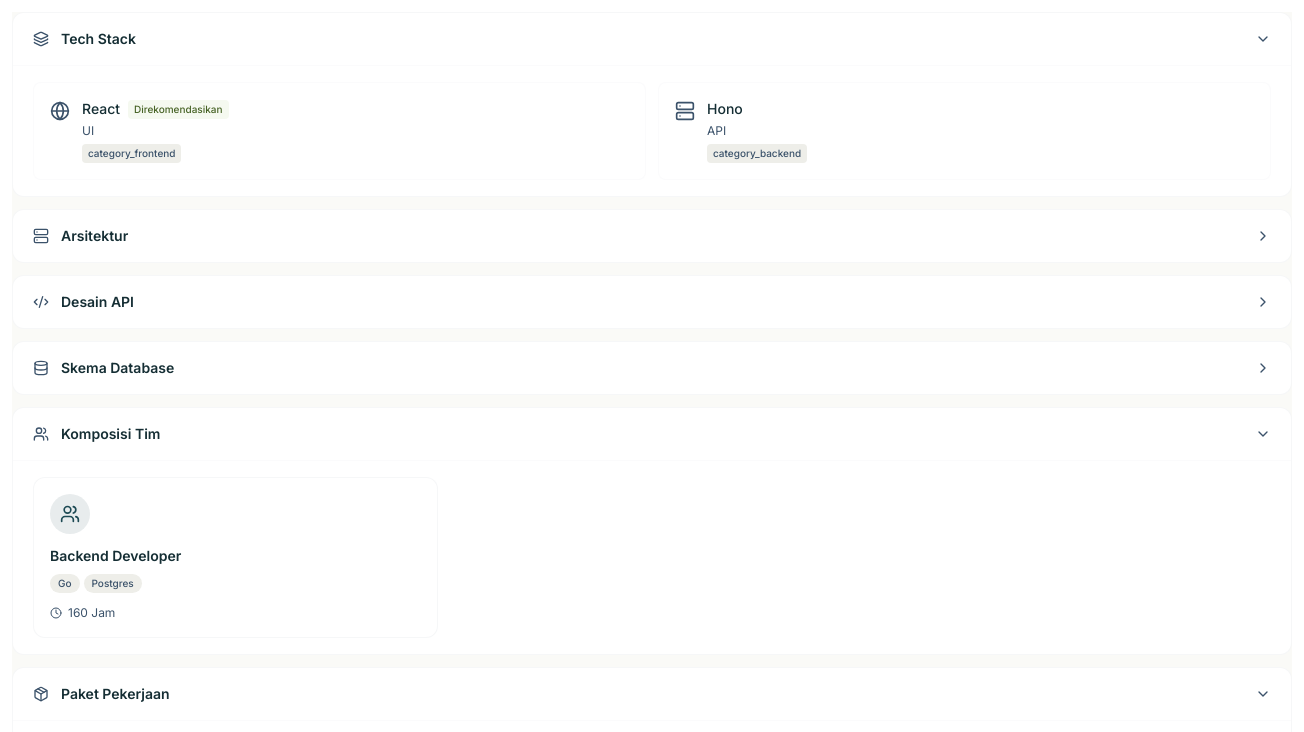
PrdDocumentBody › the buyer view › says nothing about a lock once the document is paid for
Click the button "Desain API": {"x": 97, "y": 302} [13,276,1291,328]
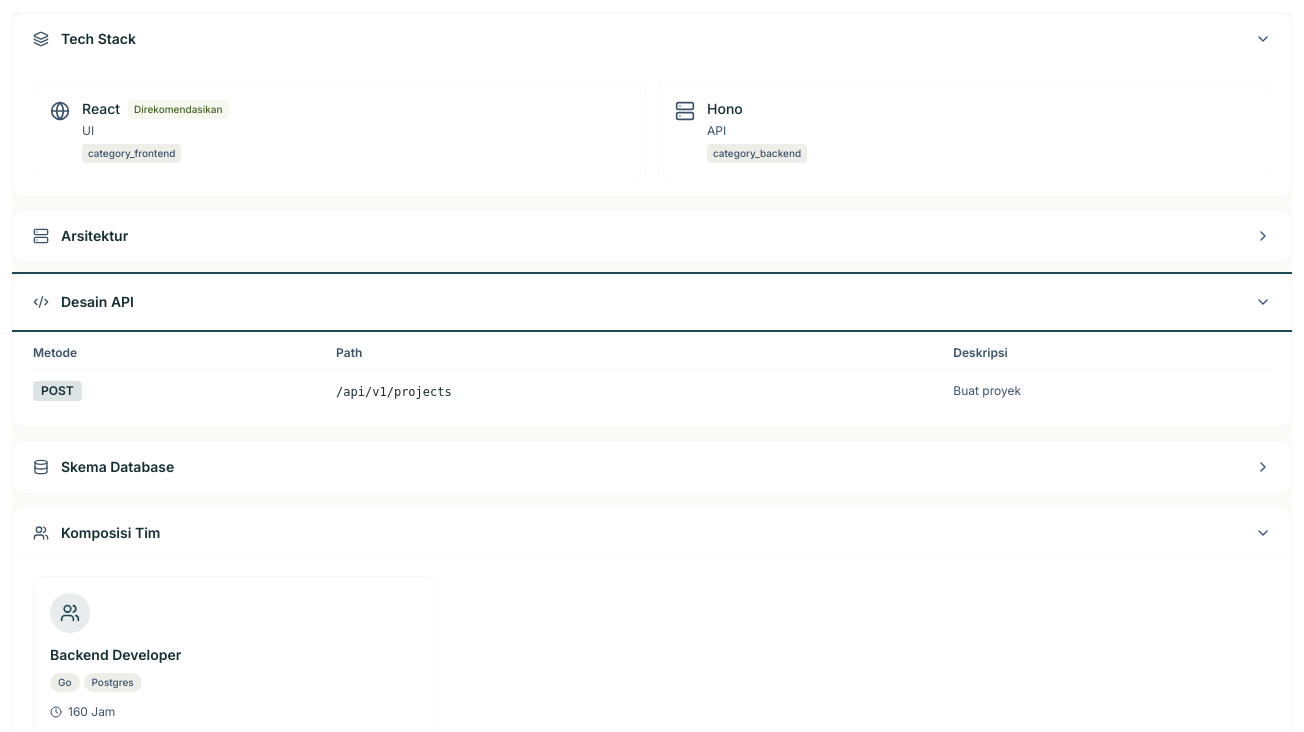
Expected: the text "/api/v1/projects" is shown, [336,384,452,398]
